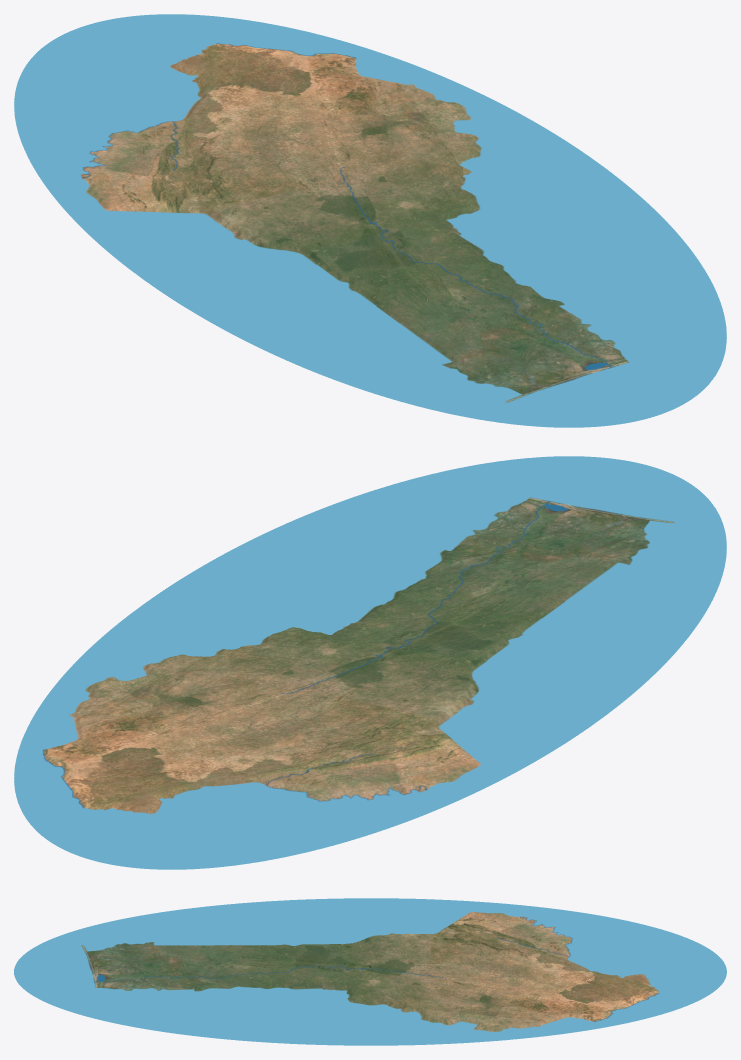
The model's file is BEN-previa-terrain.glb.
3 views of the same model, one above another, from view 1: azimuth 30°, elevation 25°; view 2: azimuth 150°, elevation 25°; view 3: azimuth 270°, elevation 25° (orthographic). The views are drawn at different scales.
Parts seen in each view (by area): view 1: Benim; view 2: Benim; view 3: Benim.
Part boxes in pixels (<box>): Benim: <box>14,14,726,427</box>; Benim: <box>14,456,726,869</box>; Benim: <box>14,898,726,1045</box>.
Bounding box in the file's own units: 1.06 × 0.0168 × 2.17.
1 material, 1 textured.
